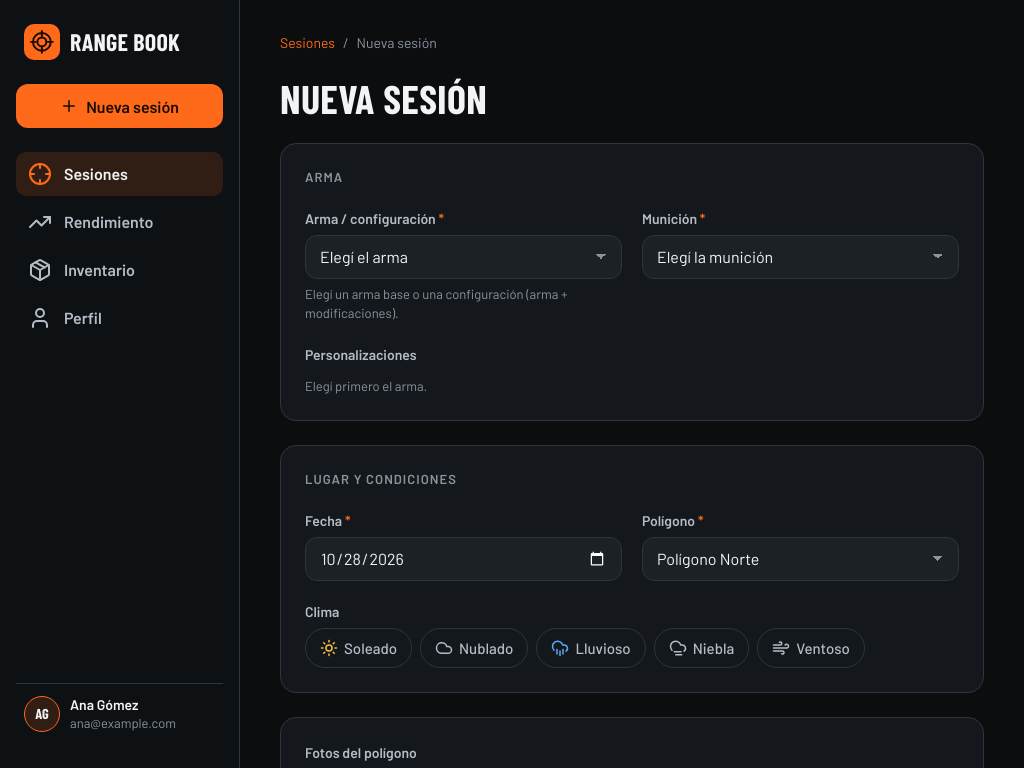
Test: SessionFormScreen · nueva › valida al salir del campo
Step 1. Click the dropdown labelled "Arma / configuración *" → [464, 256], box [305,234,622,278]
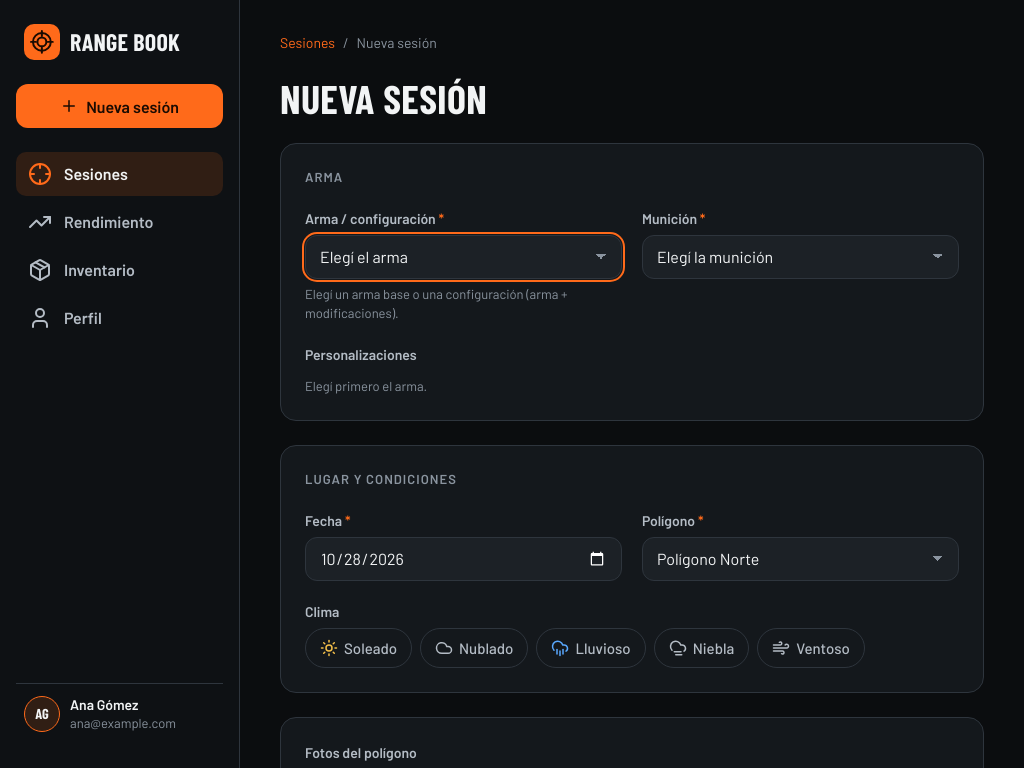
Check: the text "Elegí el arma o una configuración" is not shown
Step 2. Press Tab
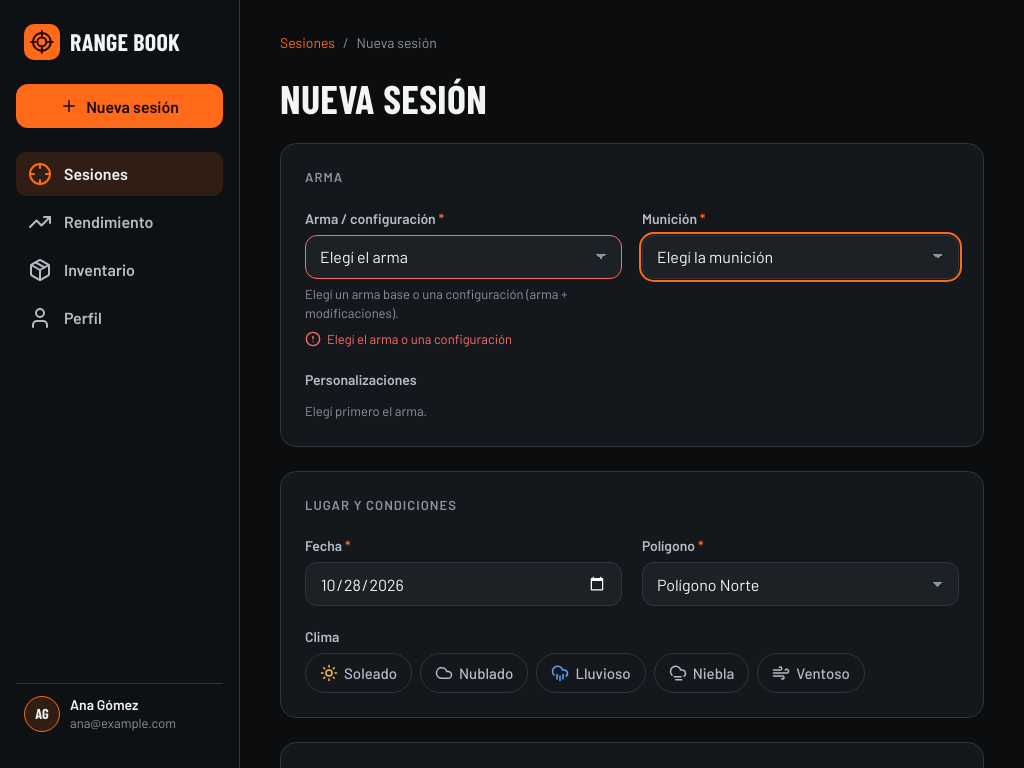
Check: the text "Elegí el arma o una configuración" is shown, box [305,330,512,347]
Step 3. Select "Glock 17 Gen5 · Stock" in the dropdown labelled "Arma / configuración *" → [464, 256], box [305,234,622,278]
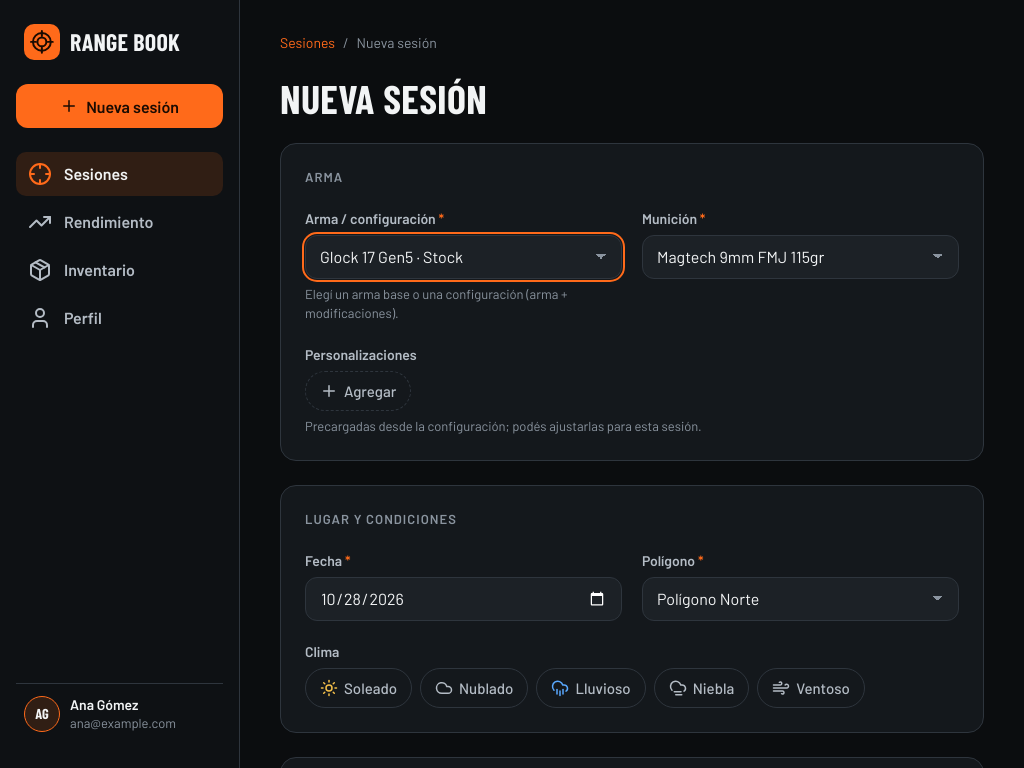
Check: the text "Elegí el arma o una configuración" is gone
Step 4. Type "2026-11-02" into the date field labelled "Fecha *" → [464, 598], box [305,576,622,620]
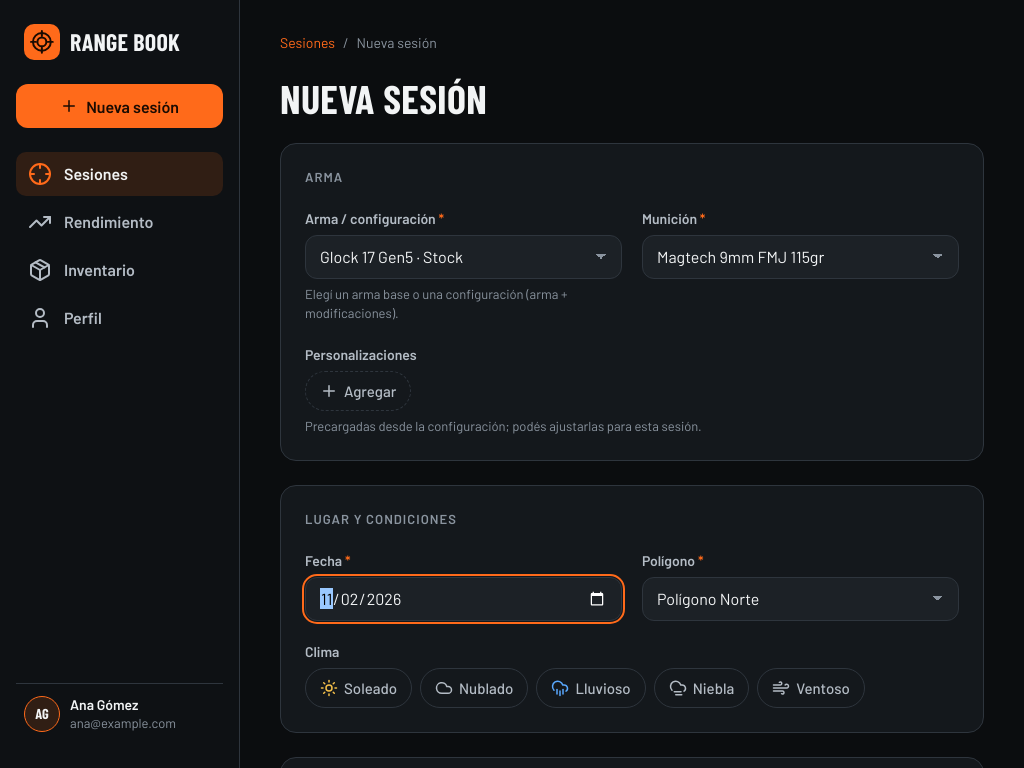
Step 5. Press Tab
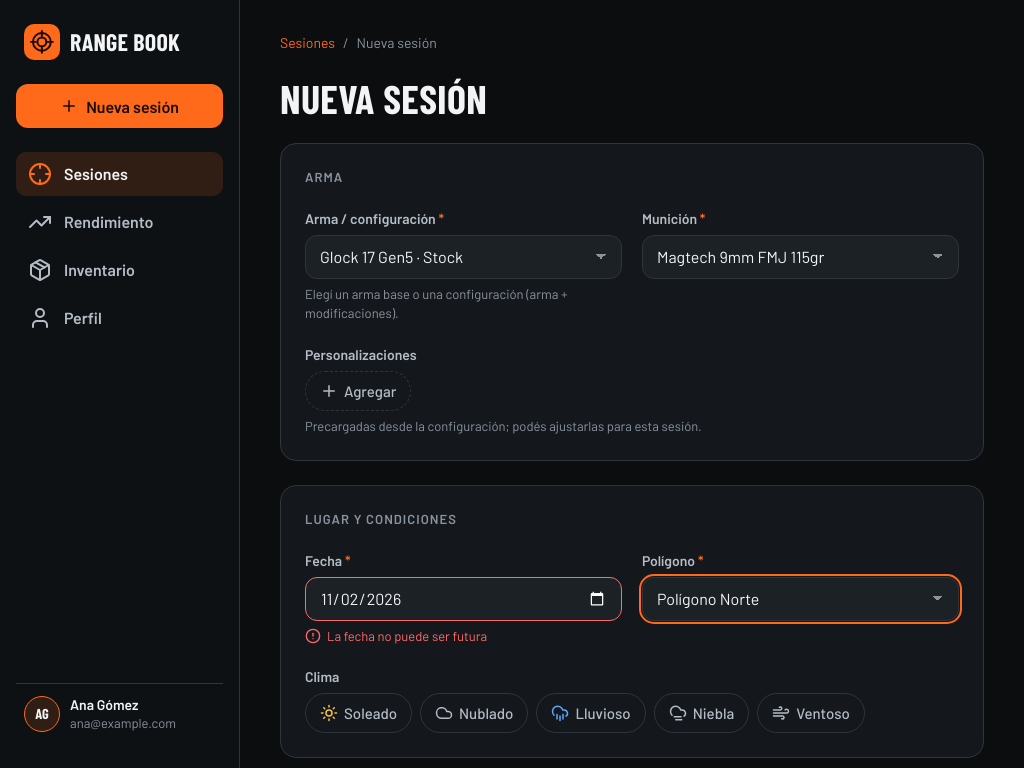
Check: the text "La fecha no puede ser futura" is shown, box [305,628,487,644]
